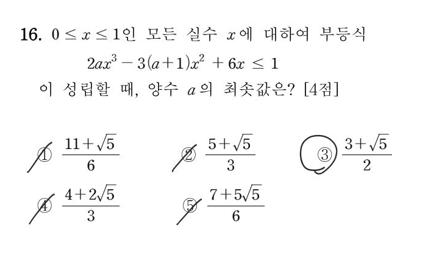1: (297, 131, 340, 175)
paper: (34, 145, 54, 164), (34, 196, 54, 215), (178, 146, 198, 165), (179, 196, 199, 215), (315, 145, 335, 164)
